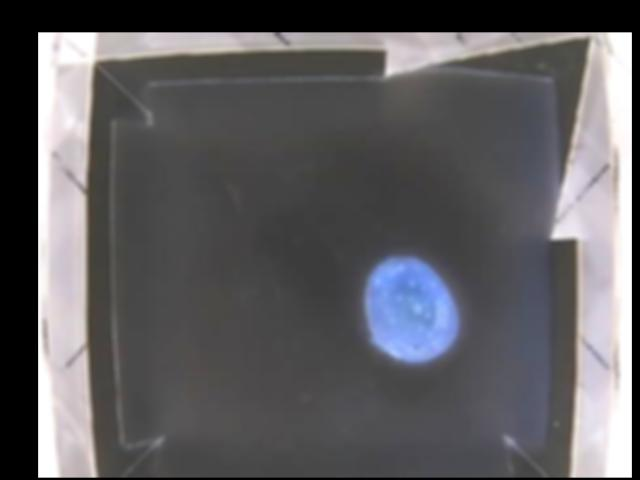Potato: (364, 254, 459, 362)
